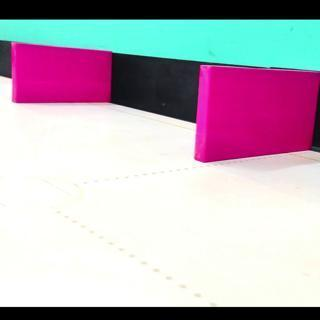xparking: (207, 74, 311, 163), (14, 53, 109, 104)
